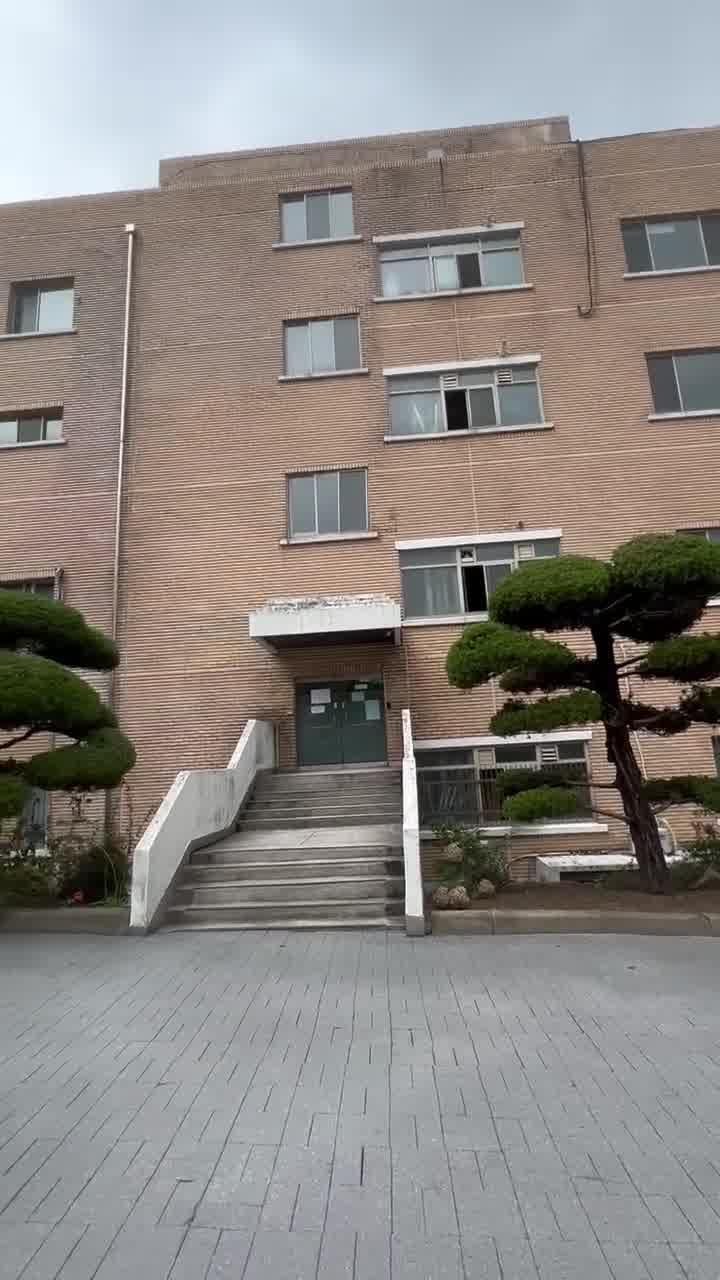building: (48, 140, 502, 906)
